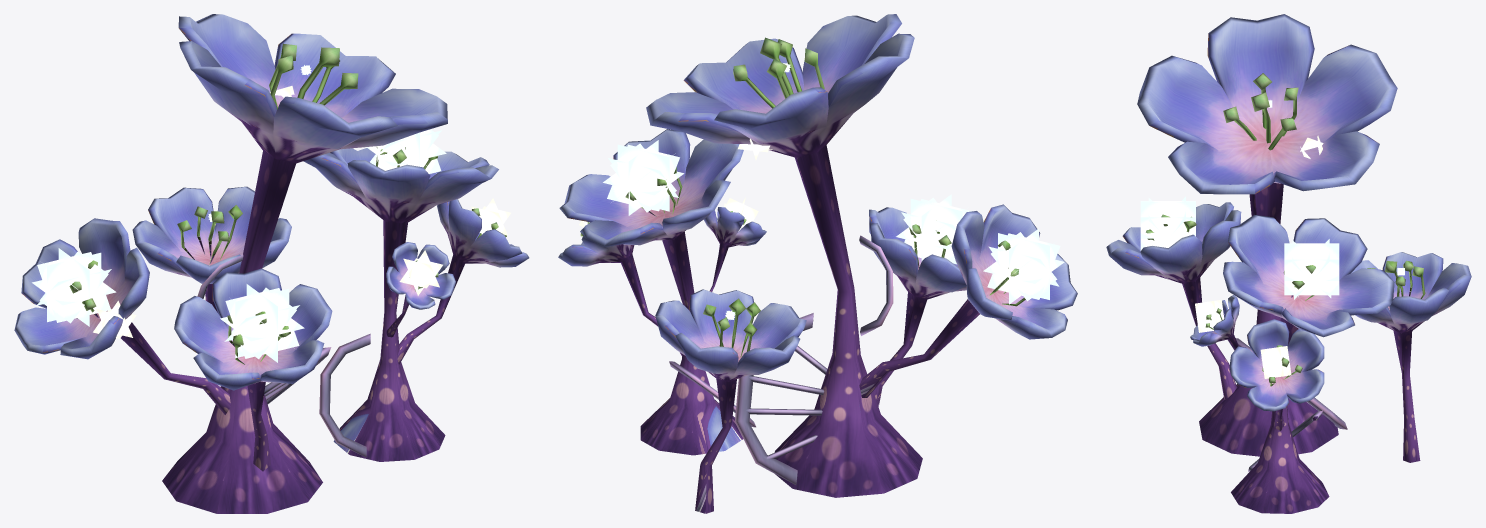
File: n_SWFgogra06a.glb
The picture shows the model from 3 angles, left to right: view 1: azimuth 30°, elevation 25°; view 2: azimuth 150°, elevation 25°; view 3: azimuth 270°, elevation 25°; orthographic projection. The views are drawn at different scales.
Visible parts, largest first — view 1: n_SWFgogra06a, n_SWFgogra06a_obj3, n_SWFgogra06a_obj7, n_SWFgogra06a_obj9, n_SWFgogra06a_obj5, n_SWFgogra06a_obj4, n_SWFgogra06a_obj2; view 2: n_SWFgogra06a, n_SWFgogra06a_obj9, n_SWFgogra06a_obj7, n_SWFgogra06a_obj3; view 3: n_SWFgogra06a, n_SWFgogra06a_obj9, n_SWFgogra06a_obj3, n_SWFgogra06a_obj4, n_SWFgogra06a_obj5.
Boxes of the visible parts, x1=… form: n_SWFgogra06a: x1=14, y1=14, x2=529, y2=513; n_SWFgogra06a_obj3: x1=220, y1=284, x2=304, y2=362; n_SWFgogra06a_obj7: x1=32, y1=248, x2=116, y2=326; n_SWFgogra06a_obj9: x1=366, y1=129, x2=446, y2=173; n_SWFgogra06a_obj5: x1=399, y1=250, x2=442, y2=295; n_SWFgogra06a_obj4: x1=471, y1=198, x2=510, y2=235; n_SWFgogra06a_obj2: x1=93, y1=300, x2=136, y2=344; n_SWFgogra06a: x1=558, y1=14, x2=1077, y2=513; n_SWFgogra06a_obj9: x1=603, y1=140, x2=684, y2=215; n_SWFgogra06a_obj7: x1=983, y1=228, x2=1064, y2=304; n_SWFgogra06a_obj3: x1=896, y1=194, x2=971, y2=264; n_SWFgogra06a: x1=1106, y1=14, x2=1471, y2=513; n_SWFgogra06a_obj9: x1=1284, y1=239, x2=1339, y2=299; n_SWFgogra06a_obj3: x1=1140, y1=196, x2=1195, y2=250; n_SWFgogra06a_obj4: x1=1260, y1=346, x2=1291, y2=378; n_SWFgogra06a_obj5: x1=1195, y1=300, x2=1224, y2=332.
Bounding box in the file's own units: 1.74 × 1.47 × 1.23.
3 materials, 3 textured.
